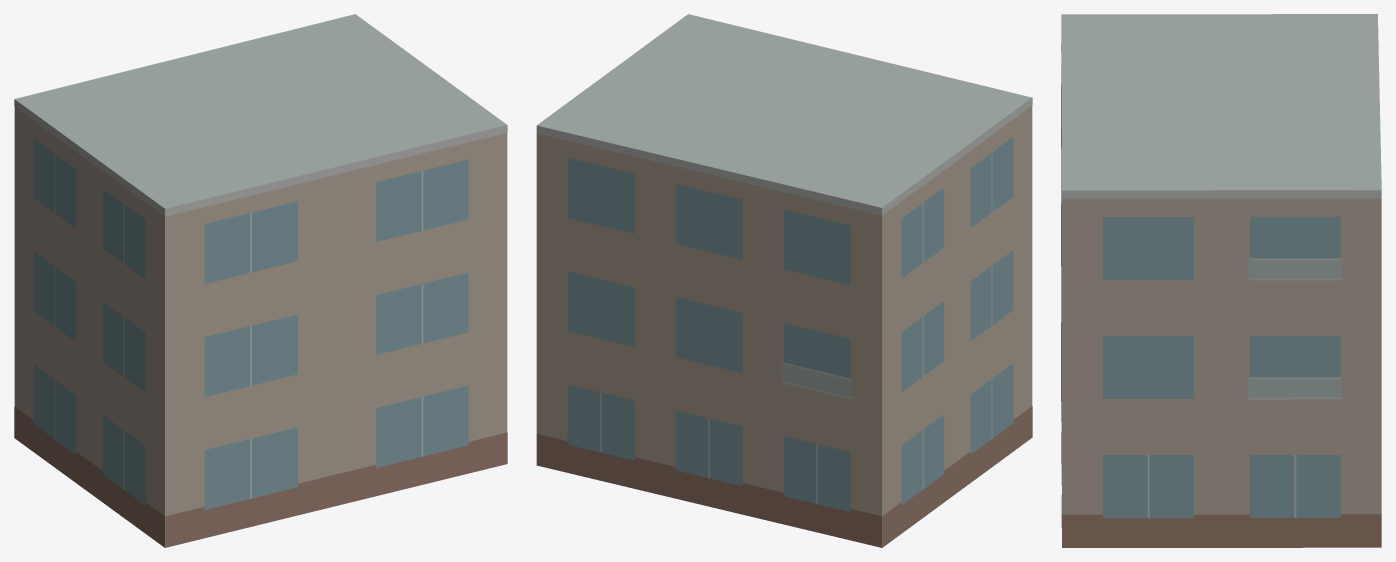
The model's file is survey-upis-32933404.glb.
3 renders of one model, left to right at view 1: azimuth 30°, elevation 25°; view 2: azimuth 150°, elevation 25°; view 3: azimuth 270°, elevation 25°, orthographic. The views are drawn at different scales.
Visible parts, largest first — view 1: survey-upis-32933404.tmp; view 2: survey-upis-32933404.tmp; view 3: survey-upis-32933404.tmp.
Part boxes in pixels (left/top/right/bottom): survey-upis-32933404.tmp: left=14, top=14, right=507, bottom=547; survey-upis-32933404.tmp: left=536, top=14, right=1032, bottom=547; survey-upis-32933404.tmp: left=1061, top=14, right=1381, bottom=547.
Bounding box in the file's own units: 11.27 × 10.6 × 8.63.
